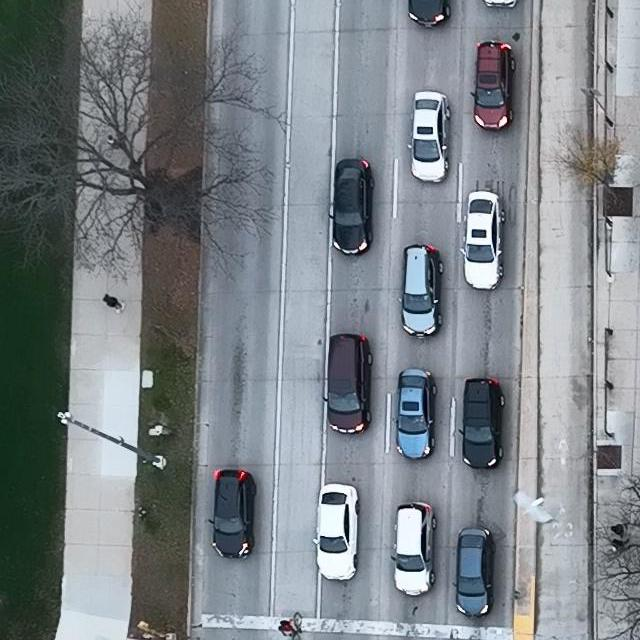car: (323, 334, 373, 434), (312, 483, 362, 581), (327, 158, 376, 254), (460, 190, 505, 291), (390, 502, 437, 596), (397, 245, 444, 339), (208, 468, 257, 558), (459, 377, 506, 469), (392, 368, 438, 461), (470, 40, 516, 131), (408, 90, 452, 184), (451, 527, 495, 618), (408, 0, 451, 29)
